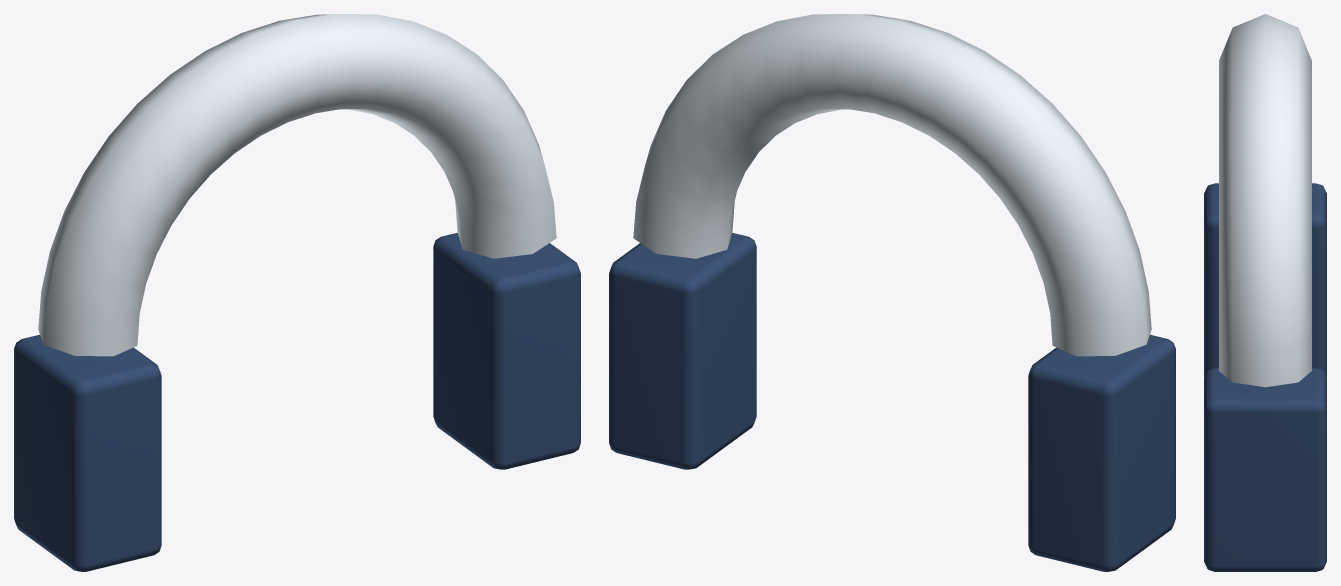
File: stone-arch-lite.glb
The picture shows the model from 3 angles, left to right: view 1: azimuth 30°, elevation 25°; view 2: azimuth 150°, elevation 25°; view 3: azimuth 270°, elevation 25°; orthographic projection. The views are drawn at different scales.
Parts seen in each view (by area): view 1: Arch; view 2: Arch; view 3: Arch.
Boxes of the visible parts, x1=… form: Arch: x1=14, y1=14, x2=580, y2=571; Arch: x1=609, y1=14, x2=1175, y2=571; Arch: x1=1204, y1=14, x2=1326, y2=571.
Size of the model in its own units: 1.94 by 1.72 by 0.45.
